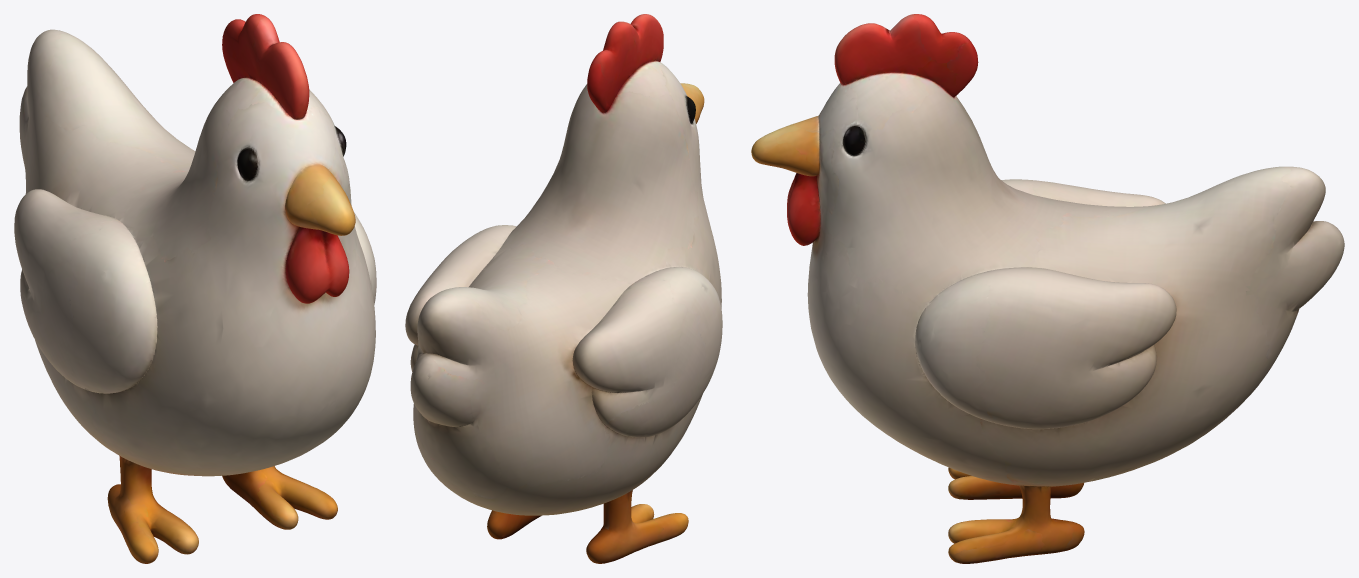
Rendered from chicken_pbr.glb.
The picture shows the model from 3 angles, left to right: view 1: azimuth 30°, elevation 25°; view 2: azimuth 150°, elevation 25°; view 3: azimuth 270°, elevation 25°; orthographic projection. The views are drawn at different scales.
Visible parts, largest first — view 1: model; view 2: model; view 3: model.
Boxes of the visible parts, bbox=[...] form: model: bbox=[14, 14, 376, 563]; model: bbox=[405, 14, 722, 563]; model: bbox=[751, 14, 1344, 563].
Bounding box in the file's own units: 0.9877 × 1.79 × 1.89.
Materials: 1 (1 with a texture image).
